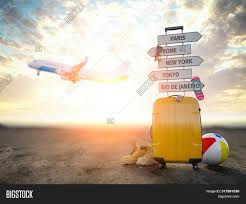suitcase: (148, 25, 205, 171)
